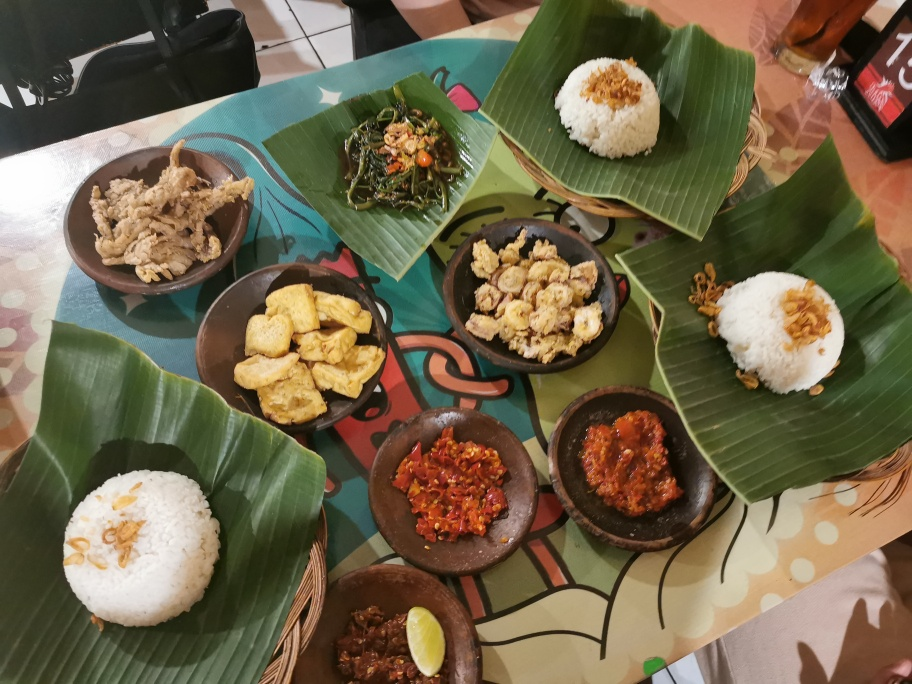nasi putih: (58, 466, 223, 630), (717, 266, 848, 400), (558, 56, 662, 159)
